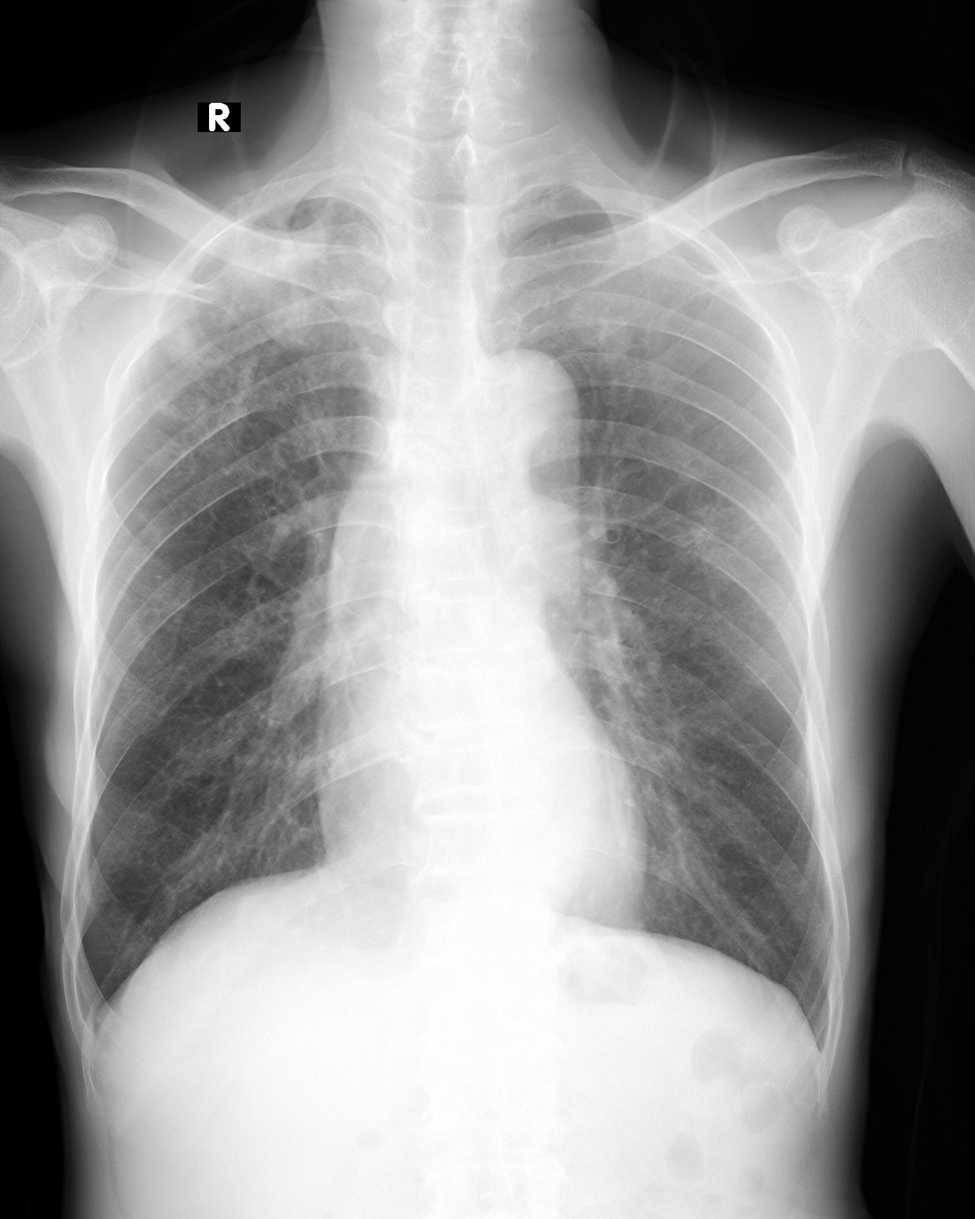Pleural thickening: (168, 222, 278, 295), (69, 997, 122, 1053)
Pulmonary fibrosis: (134, 222, 346, 536), (558, 227, 694, 356)
